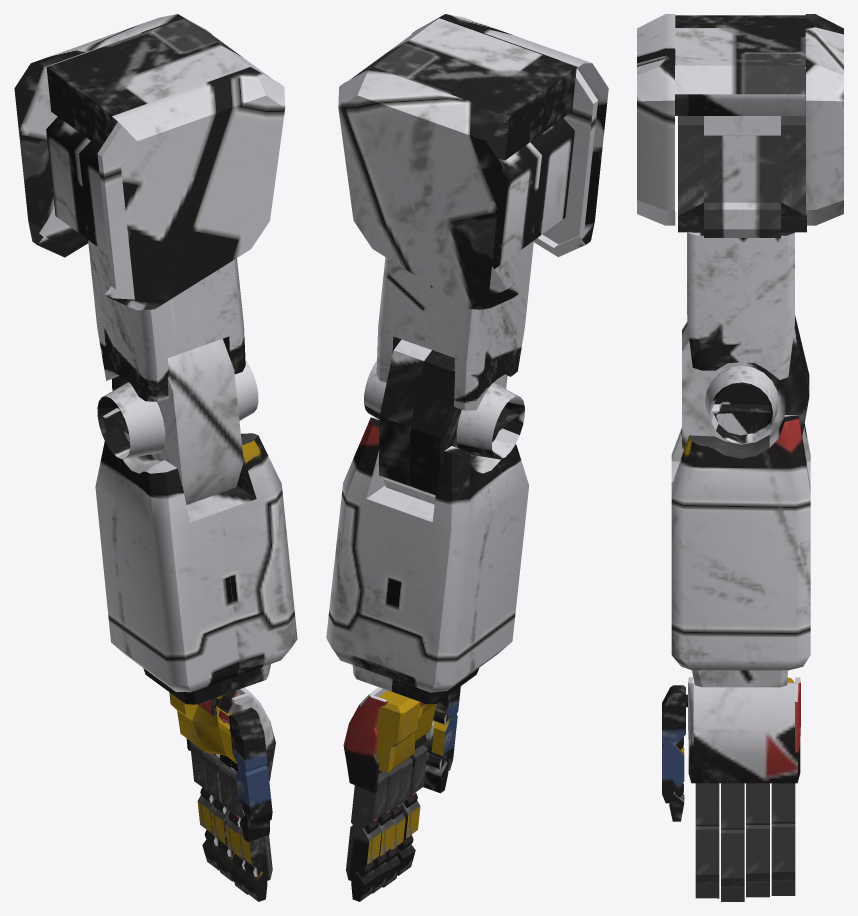
File: lefthand.obj
The picture shows the model from 3 angles, left to right: view 1: azimuth 30°, elevation 25°; view 2: azimuth 150°, elevation 25°; view 3: azimuth 270°, elevation 25°; orthographic projection. The views are drawn at different scales.
Visible parts, largest first — view 1: Gundam:polySurface666; view 2: Gundam:polySurface666; view 3: Gundam:polySurface666.
Boxes of the visible parts, box(x1,y1,x2,y2) form: Gundam:polySurface666: box(14, 14, 297, 901); Gundam:polySurface666: box(326, 14, 608, 901); Gundam:polySurface666: box(637, 14, 843, 901).
Bounding box in the file's own units: 3.03 × 12.02 × 2.73.
1 material, 1 textured.
